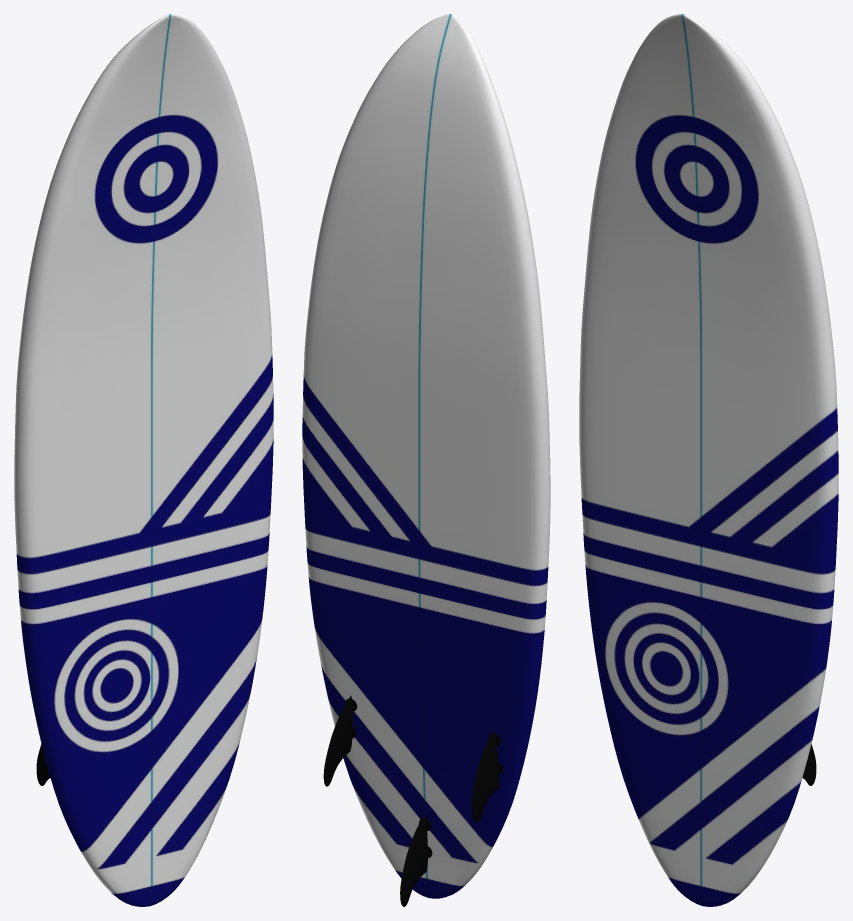
File: sf-surfboard-white.glb
3 renders of one model, left to right at view 1: azimuth 30°, elevation 25°; view 2: azimuth 150°, elevation 25°; view 3: azimuth 330°, elevation 25°, orthographic. The views are drawn at different scales.
Parts seen in each view (by area): view 1: SurfBoard_Surfboard_0; view 2: SurfBoard_Surfboard_0, quilla.000_Material_0; view 3: SurfBoard_Surfboard_0.
Boxes of the visible parts, box(x1,y1,x2,y2) form: SurfBoard_Surfboard_0: box(14, 14, 273, 906); SurfBoard_Surfboard_0: box(302, 14, 550, 898); quilla.000_Material_0: box(323, 696, 502, 906); SurfBoard_Surfboard_0: box(579, 14, 838, 906).
Size of the model in its own units: 0.5325 by 1.8 by 0.2.
Materials: 2 (1 with a texture image).
